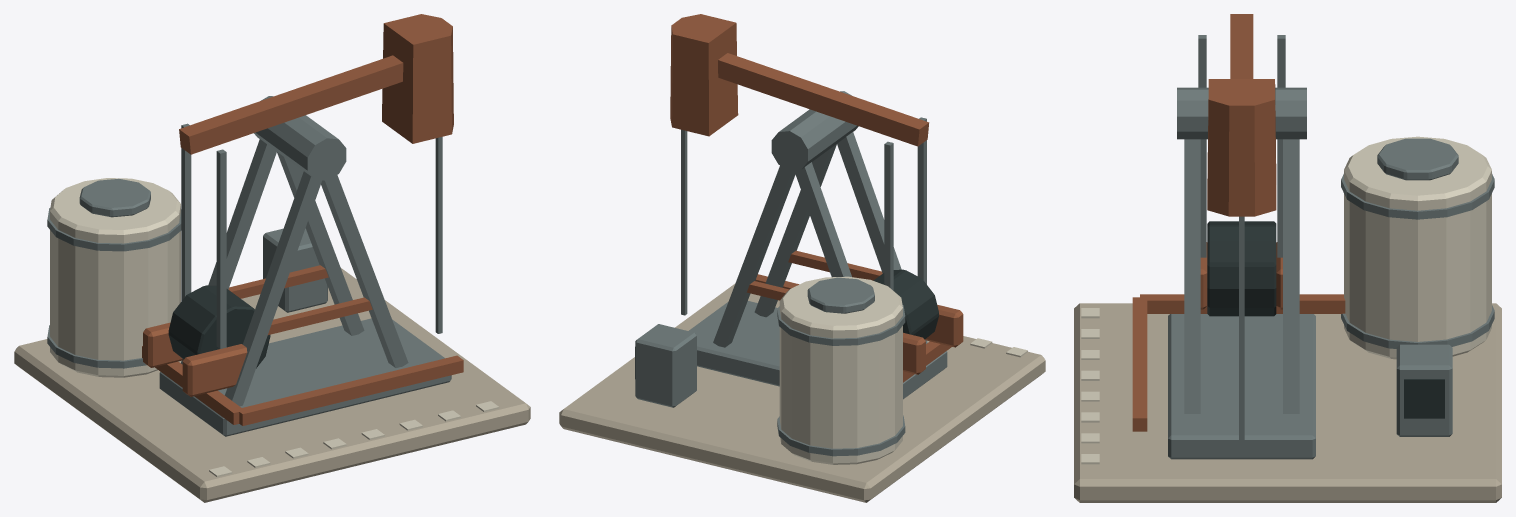
File: oil_derrick.glb
3 renders of one model, left to right at view 1: azimuth 30°, elevation 25°; view 2: azimuth 150°, elevation 25°; view 3: azimuth 270°, elevation 25°, orthographic. The views are drawn at different scales.
Parts seen in each view (by area): view 1: oil_derrick; view 2: oil_derrick; view 3: oil_derrick.
Part boxes in pixels (box(x1,y1,x2,y2)): oil_derrick: box(14, 14, 530, 502); oil_derrick: box(559, 14, 1045, 502); oil_derrick: box(1074, 14, 1501, 502).
Size of the model in its own units: 2.6 by 2.64 by 2.6.
